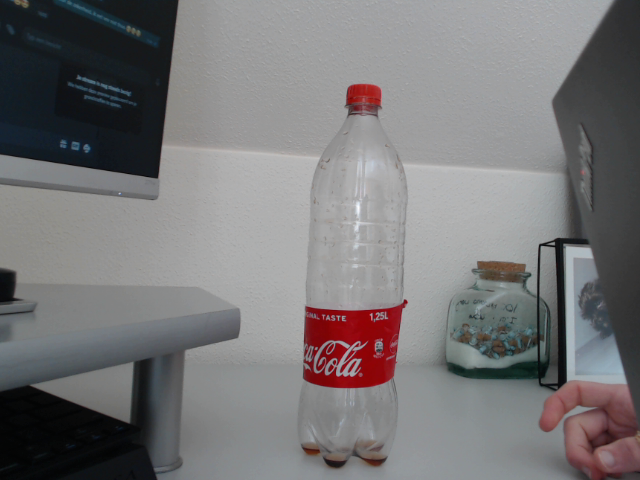bottle: (297, 83, 408, 468)
